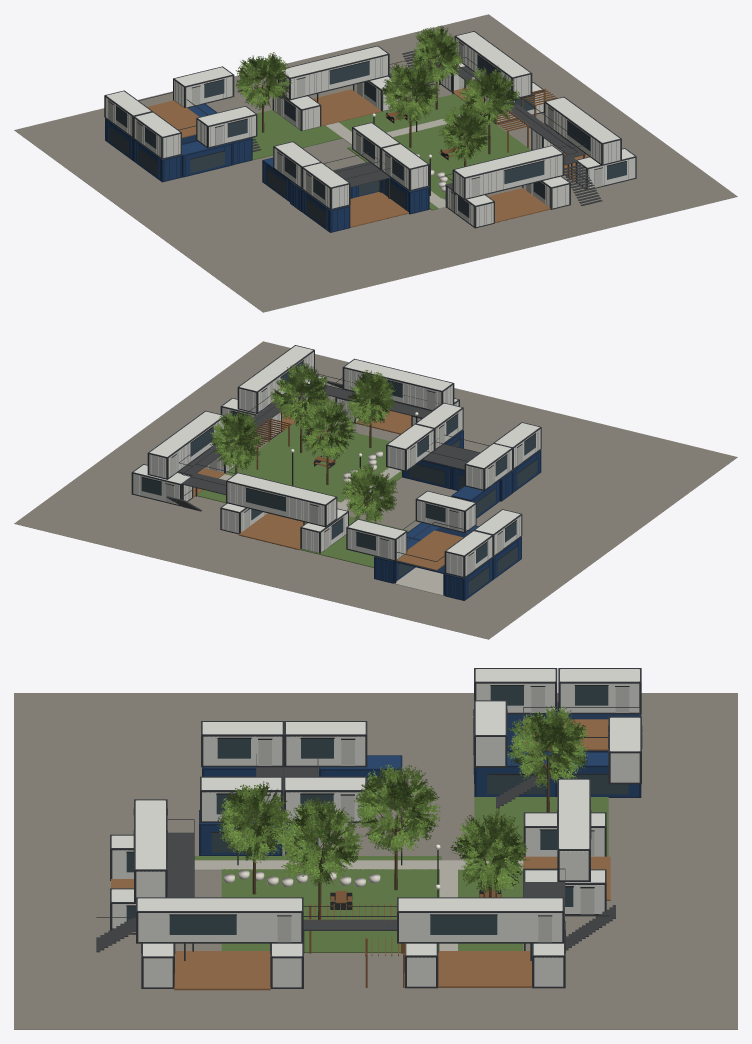
Rendered from containers.glb.
3 renders of one model, top to bottom at view 1: azimuth 30°, elevation 25°; view 2: azimuth 150°, elevation 25°; view 3: azimuth 270°, elevation 25°, orthographic. The views are drawn at different scales.
Parts seen in each view (by area): view 1: GEO-implantacao-terreno, GEO-containers-chapa-branca, GEO-implantacao-grama, GEO-containers-quadro, GEO-containers-vidro, GEO-implantacao-deck, GEO-containers-chapa-azul, GEO-SITE-copa, GEO-implantacao-grade, GEO-SITE-copa.003, GEO-SITE-copa.001, GEO-containers-porta (+8 smaller); view 2: GEO-implantacao-terreno, GEO-containers-chapa-branca, GEO-implantacao-grama, GEO-containers-quadro, GEO-containers-vidro, GEO-implantacao-deck, GEO-containers-chapa-azul, GEO-implantacao-grade, GEO-SITE-copa, GEO-SITE-copa.001, GEO-SITE-copa.004, GEO-SITE-copa.003 (+7 smaller); view 3: GEO-implantacao-terreno, GEO-containers-chapa-branca, GEO-implantacao-grama, GEO-containers-quadro, GEO-implantacao-deck, GEO-containers-vidro, GEO-SITE-copa, GEO-SITE-copa.001, GEO-SITE-copa.003, GEO-SITE-copa.004, GEO-implantacao-grade, GEO-SITE-copa.002 (+9 smaller).
Boxes of the visible parts, <box> form: GEO-implantacao-terreno: <box>14,14,737,312</box>; GEO-containers-chapa-branca: <box>105,32,635,226</box>; GEO-implantacao-grama: <box>252,94,530,210</box>; GEO-containers-quadro: <box>104,31,636,228</box>; GEO-containers-vidro: <box>109,56,626,226</box>; GEO-implantacao-deck: <box>147,87,588,227</box>; GEO-containers-chapa-azul: <box>106,104,428,231</box>; GEO-SITE-copa: <box>380,63,439,122</box>; GEO-implantacao-grade: <box>333,62,585,190</box>; GEO-SITE-copa.003: <box>235,52,291,110</box>; GEO-SITE-copa.001: <box>459,65,520,125</box>; GEO-containers-porta: <box>108,42,602,212</box>; GEO-implantacao-terreno: <box>14,341,737,639</box>; GEO-containers-chapa-branca: <box>133,346,540,576</box>; GEO-implantacao-grama: <box>197,419,408,567</box>; GEO-containers-quadro: <box>131,345,541,578</box>; GEO-containers-vidro: <box>141,361,537,594</box>; GEO-implantacao-deck: <box>178,402,462,570</box>; GEO-containers-chapa-azul: <box>375,432,540,599</box>; GEO-implantacao-grade: <box>179,385,478,494</box>; GEO-SITE-copa: <box>298,397,357,459</box>; GEO-SITE-copa.001: <box>270,363,329,426</box>; GEO-SITE-copa.004: <box>210,410,263,470</box>; GEO-SITE-copa.003: <box>341,464,397,523</box>; GEO-implantacao-terreno: <box>14,693,737,1029</box>; GEO-containers-chapa-branca: <box>111,669,640,987</box>; GEO-implantacao-grama: <box>194,797,608,952</box>; GEO-containers-quadro: <box>110,668,641,988</box>; GEO-implantacao-deck: <box>111,719,610,990</box>; GEO-containers-vidro: <box>126,686,628,972</box>; GEO-SITE-copa: <box>354,764,440,853</box>; GEO-SITE-copa.001: <box>275,797,362,886</box>; GEO-SITE-copa.003: <box>507,705,588,788</box>; GEO-SITE-copa.004: <box>450,808,529,893</box>; GEO-implantacao-grade: <box>167,767,564,930</box>; GEO-SITE-copa.002: <box>217,781,292,862</box>.
Size of the model in its own units: 57.97 by 10.37 by 52.7.
Materials: 21 (1 with a texture image).
